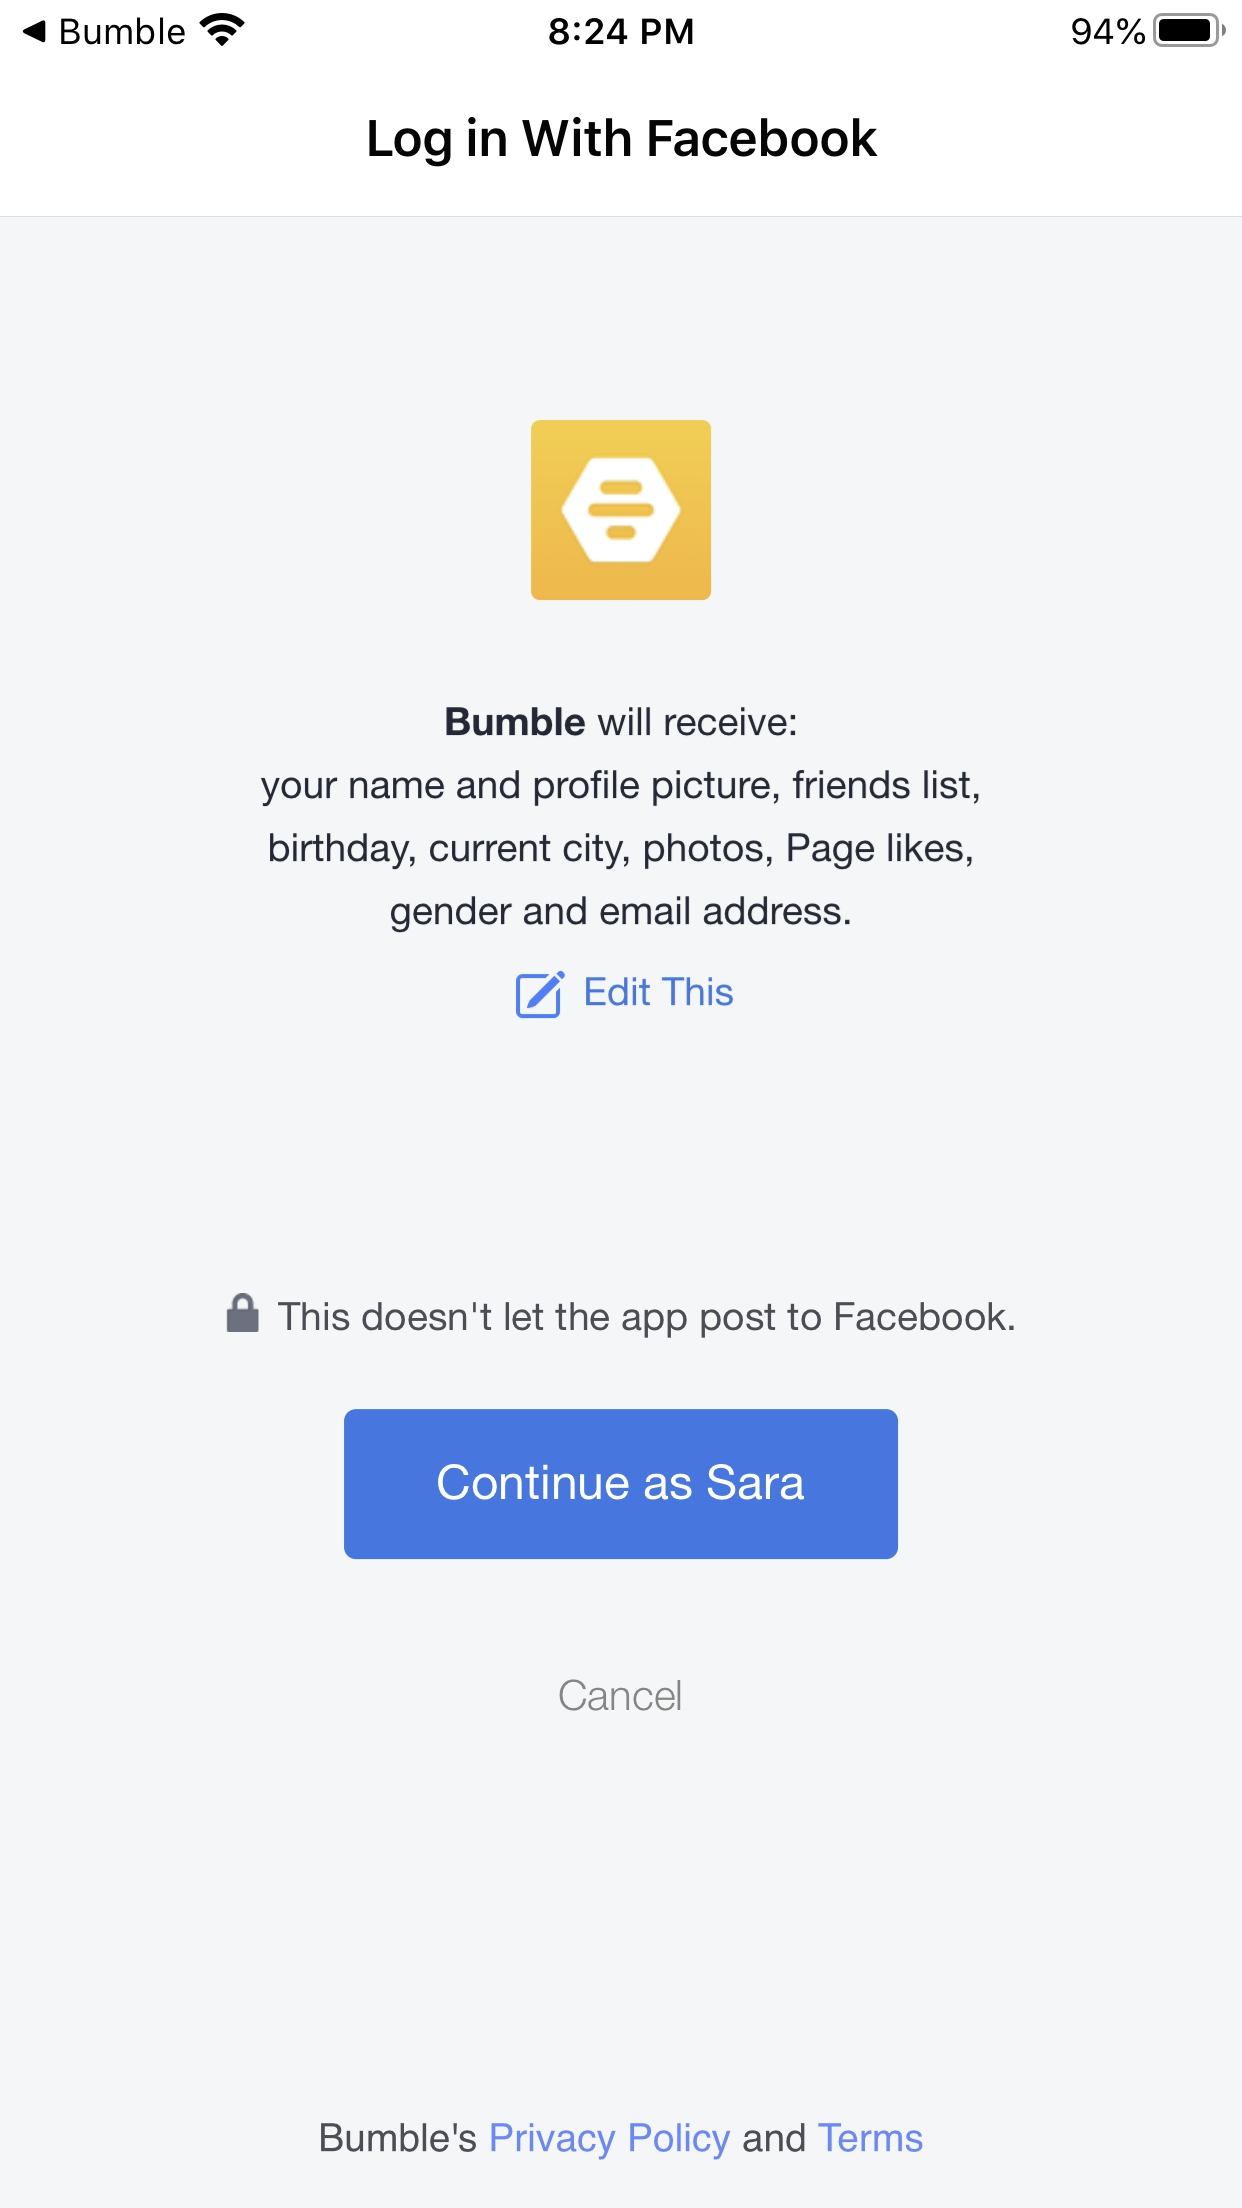Icon: (516, 971, 566, 1018), (226, 1294, 259, 1331)
Image: (529, 420, 713, 601)
Text: (261, 770, 980, 933), (278, 1303, 1015, 1339), (369, 117, 878, 167), (321, 2122, 924, 2159), (446, 707, 796, 737), (585, 977, 732, 1005), (560, 1679, 681, 1711)
TextButton: (344, 1407, 898, 1559)
UpperTaskBar: (2, 2, 1242, 49)
